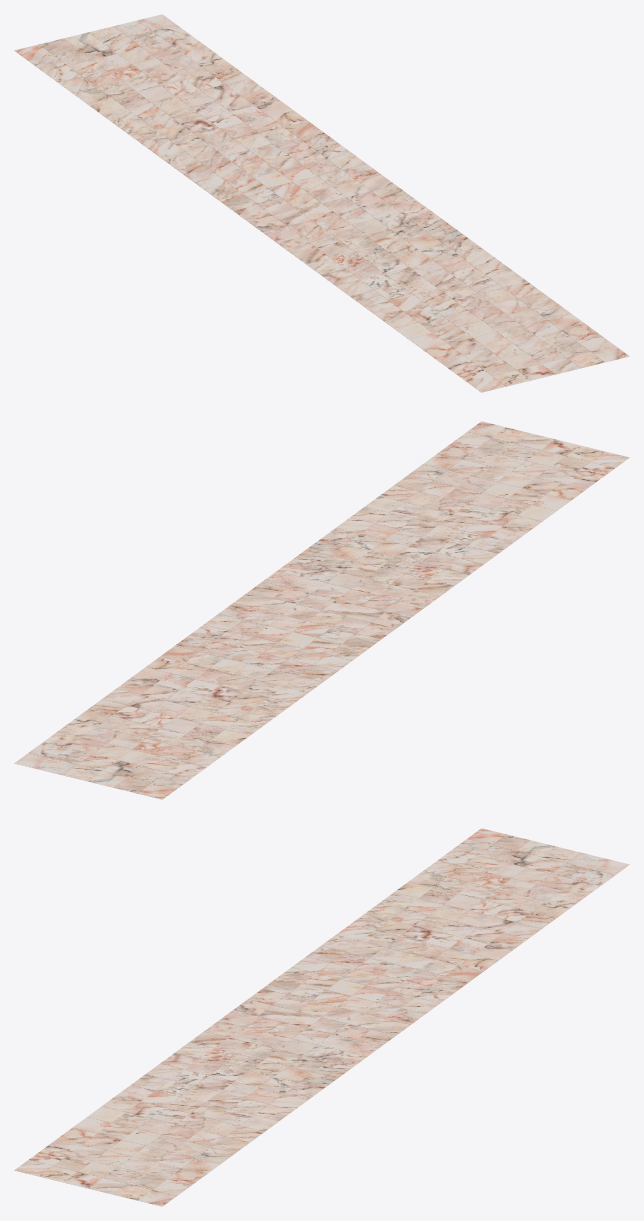
Rendered from Elevator_Floor.fbx.
3 renders of one model, top to bottom at view 1: azimuth 30°, elevation 25°; view 2: azimuth 150°, elevation 25°; view 3: azimuth 330°, elevation 25°, orthographic.
Visible parts, largest first — view 1: Elevator_Floor; view 2: Elevator_Floor; view 3: Elevator_Floor.
Boxes of the visible parts, x1,y1,x2,y2 form: Elevator_Floor: (14,14,629,392); Elevator_Floor: (14,421,629,799); Elevator_Floor: (14,828,629,1206).
Bounding box in the file's own units: 973 × 0.5747 × 5306.
